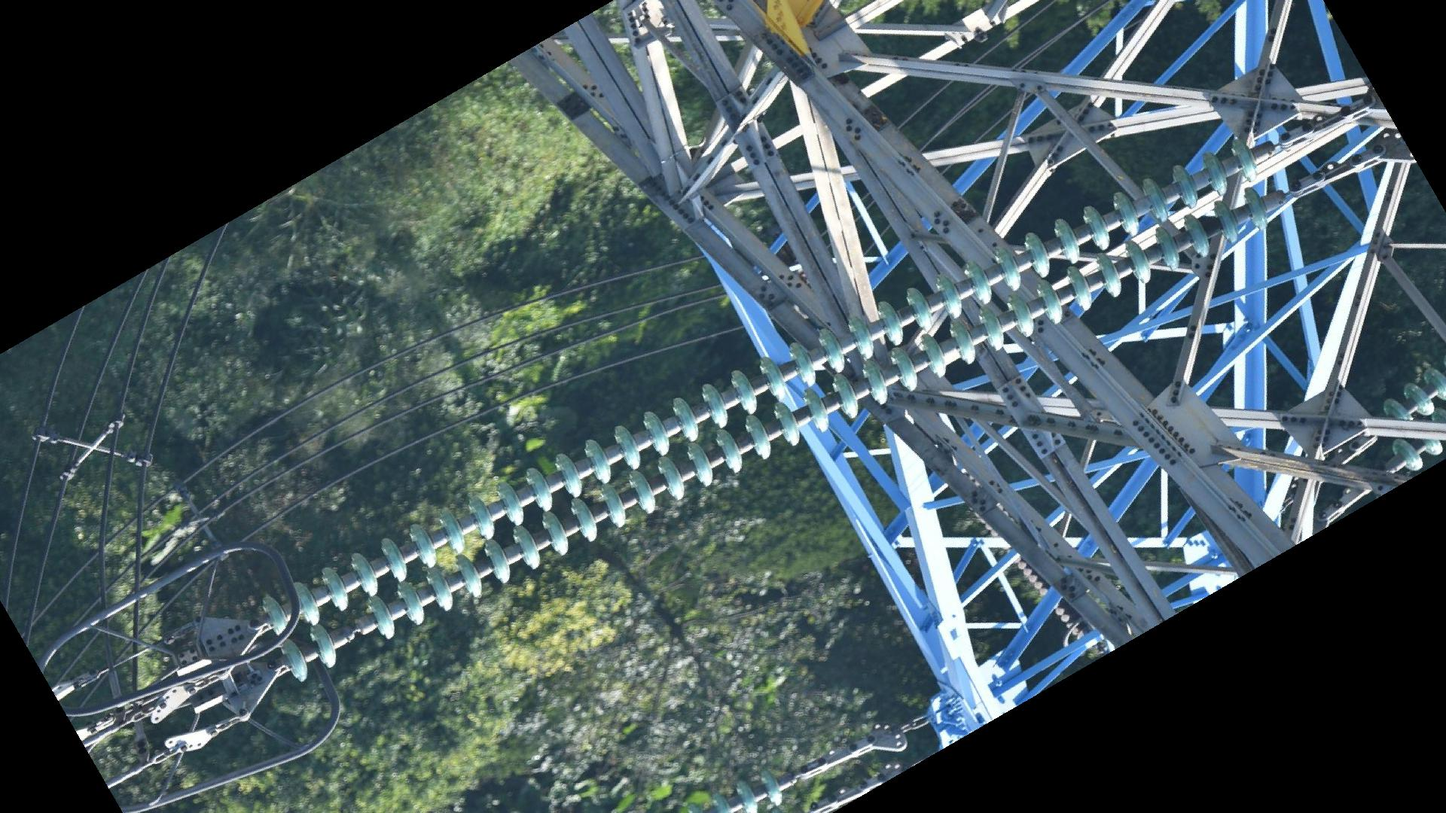insulator: (260, 131, 1277, 690), (1372, 363, 1446, 473), (702, 766, 785, 813)
insulator_stringdrop: (308, 592, 398, 670)
